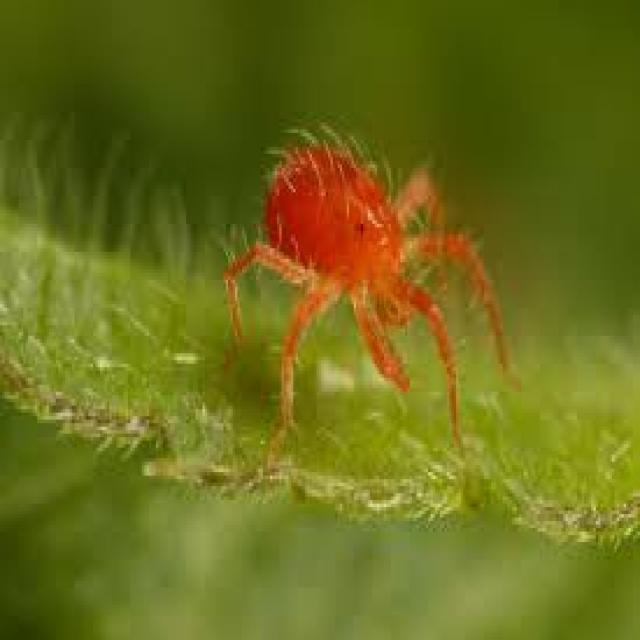Mites: (218, 114, 522, 473)
